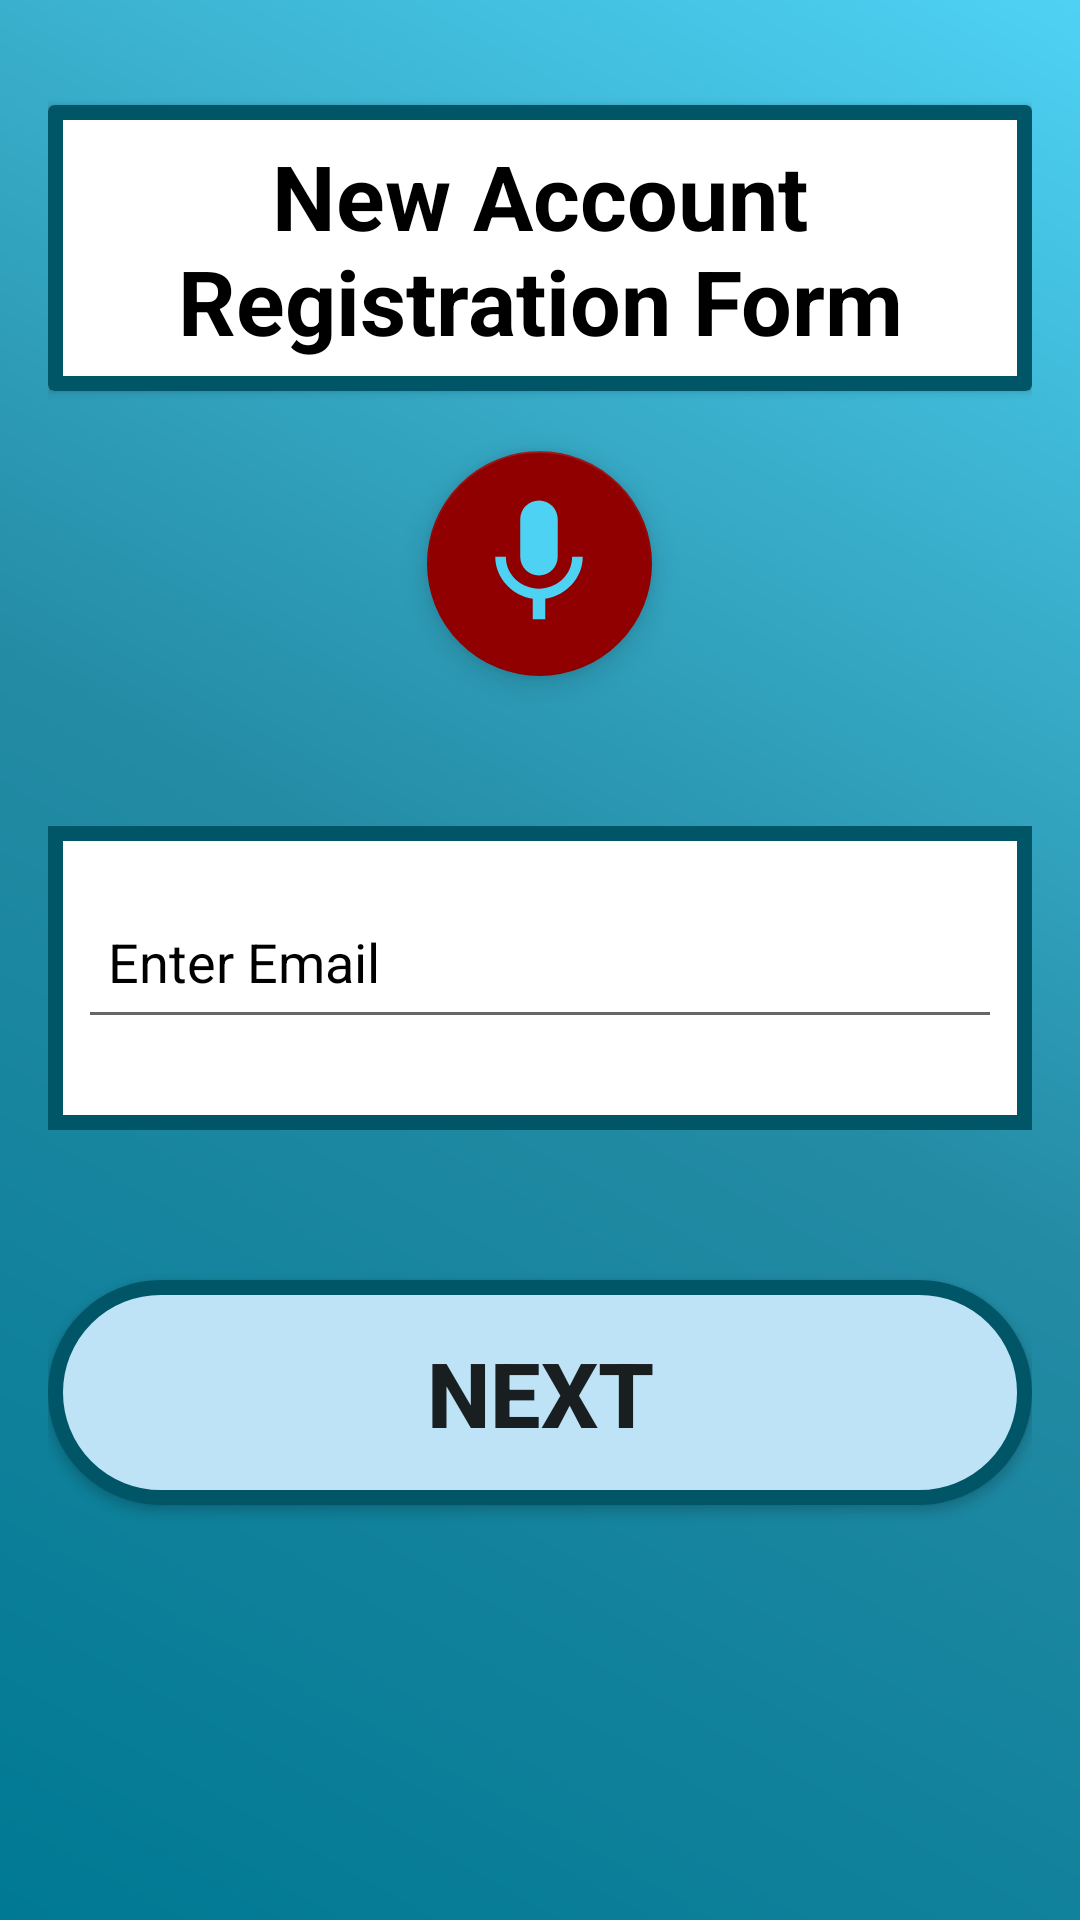

Icon click points for this 1080*1920 phone screenshot, format point (x, y):
Select microphone to Dictate your Email: point (539, 563)
